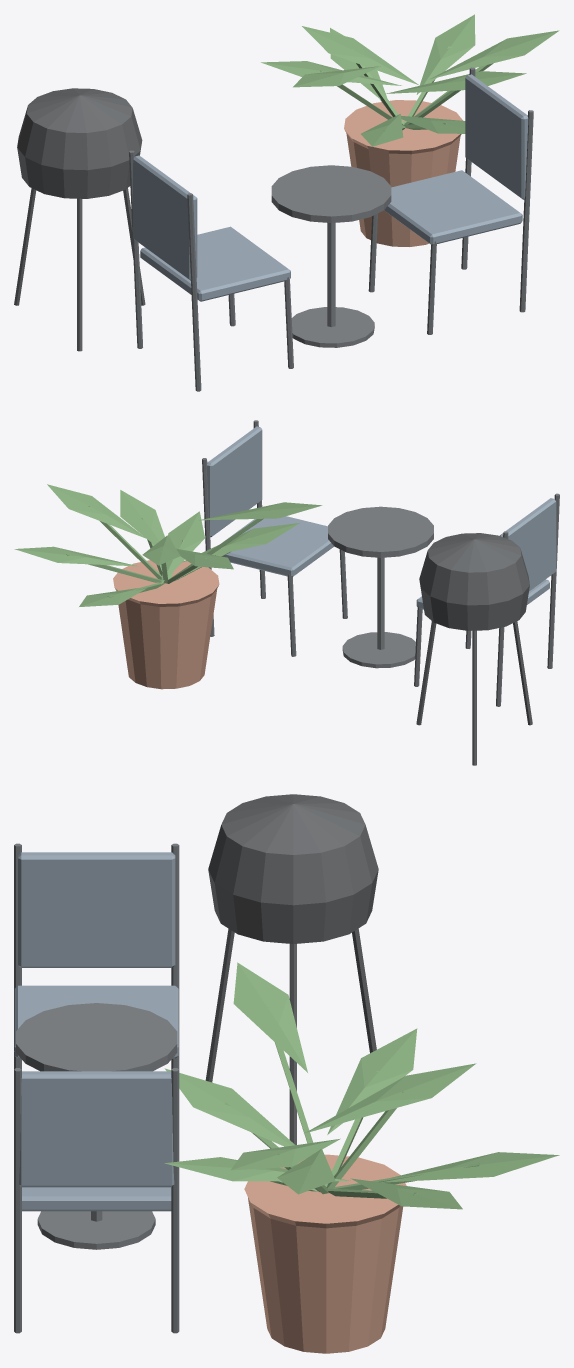
The model's file is patio_r.glb.
3 views of the same model, one above another, from view 1: azimuth 30°, elevation 25°; view 2: azimuth 150°, elevation 25°; view 3: azimuth 270°, elevation 25° (orthographic). The views are drawn at different scales.
Parts seen in each view (by area): view 1: patio_r_fabric2, patio_r_steel_d, patio_r_iron, patio_r_plant, patio_r_pot; view 2: patio_r_fabric2, patio_r_iron, patio_r_steel_d, patio_r_plant, patio_r_pot; view 3: patio_r_fabric2, patio_r_iron, patio_r_plant, patio_r_pot, patio_r_steel_d.
Boxes of the visible parts, x1,y1,x2,y2 form: patio_r_fabric2: (133,74,528,301); patio_r_steel_d: (129,67,533,391); patio_r_iron: (14,88,145,351); patio_r_plant: (261,14,559,146); patio_r_pot: (344,100,462,246); patio_r_fabric2: (206,426,556,609); patio_r_iron: (416,533,532,765); patio_r_steel_d: (202,420,559,706); patio_r_plant: (14,484,322,606); patio_r_pot: (113,560,219,689); patio_r_fabric2: (14,852,178,1211); patio_r_iron: (205,794,378,1144); patio_r_plant: (164,962,559,1209); patio_r_pot: (244,1154,406,1353); patio_r_steel_d: (14,843,179,1333).
Bounding box in the file's own units: 2.55 × 1.02 × 1.66.
